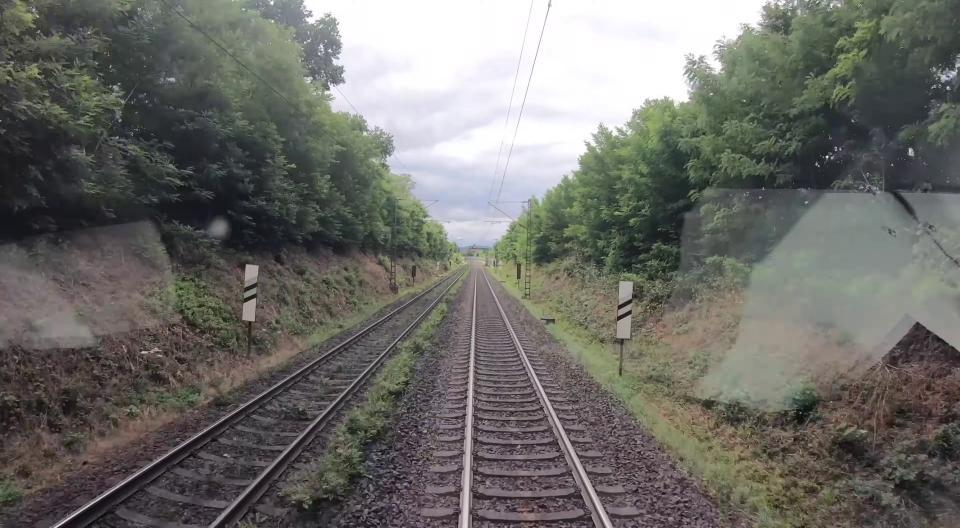Plant: (286, 303, 447, 509), (325, 305, 423, 377), (425, 266, 467, 302), (401, 270, 454, 296), (443, 267, 472, 302), (284, 407, 317, 421), (313, 376, 331, 396), (214, 396, 234, 409), (274, 359, 294, 369)
